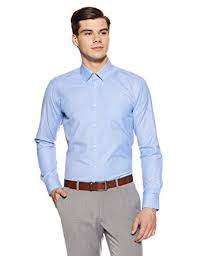F_belt: (62, 177, 139, 193)
F_dress pants: (54, 188, 144, 256)
F_shirt: (29, 62, 176, 209)
